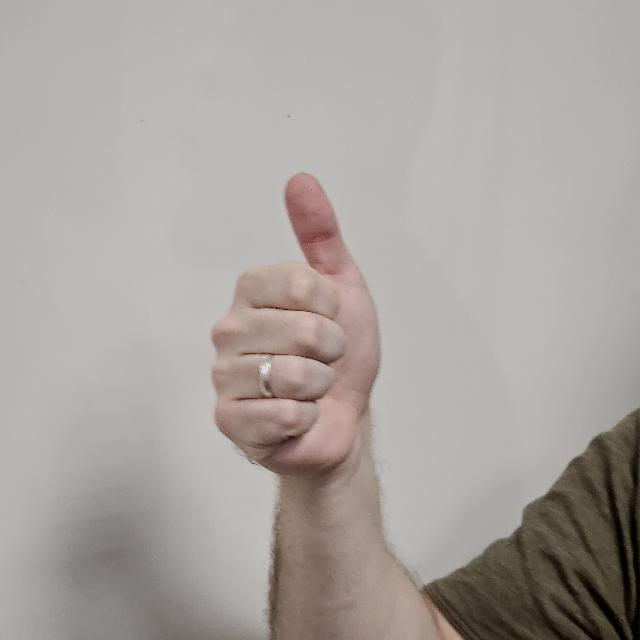Start: (214, 168, 384, 490)
